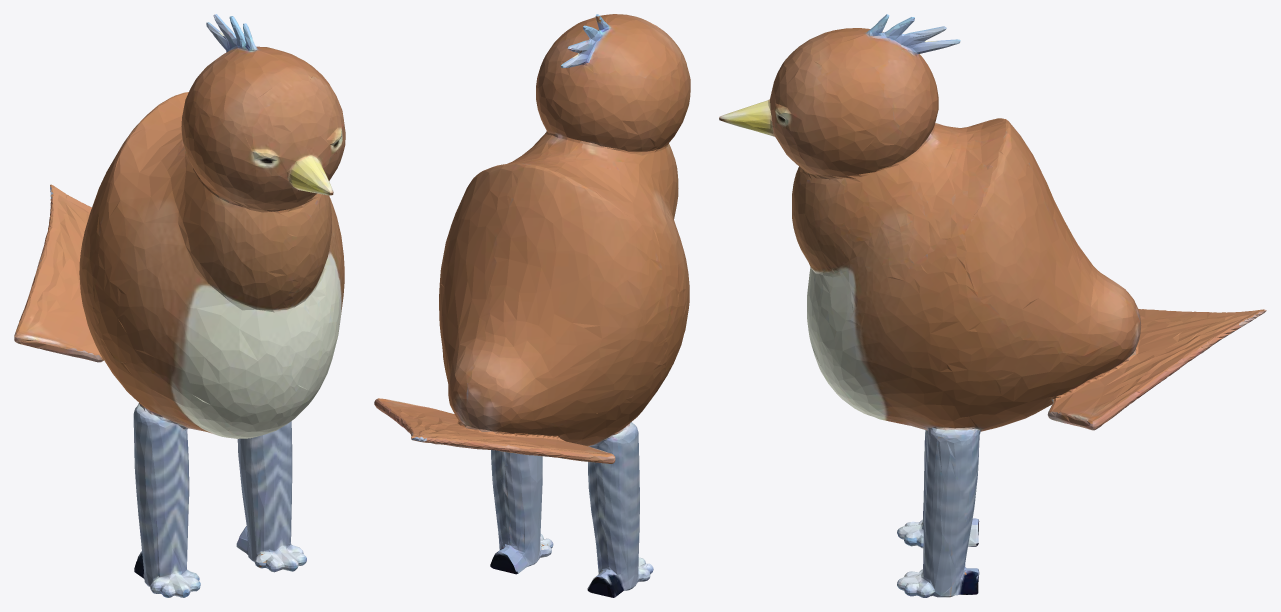
File: creature-076.lod.glb
3 renders of one model, left to right at view 1: azimuth 30°, elevation 25°; view 2: azimuth 150°, elevation 25°; view 3: azimuth 270°, elevation 25°, orthographic. The views are drawn at different scales.
Parts seen in each view (by area): view 1: tmphm7646d1.ply; view 2: tmphm7646d1.ply; view 3: tmphm7646d1.ply.
Part boxes in pixels (x1,y1,x2,y2): tmphm7646d1.ply: [14, 14, 345, 597]; tmphm7646d1.ply: [374, 14, 690, 597]; tmphm7646d1.ply: [719, 14, 1266, 597].
Size of the model in its own units: 0.7808 by 1.67 by 1.51.
1 material, 1 textured.
